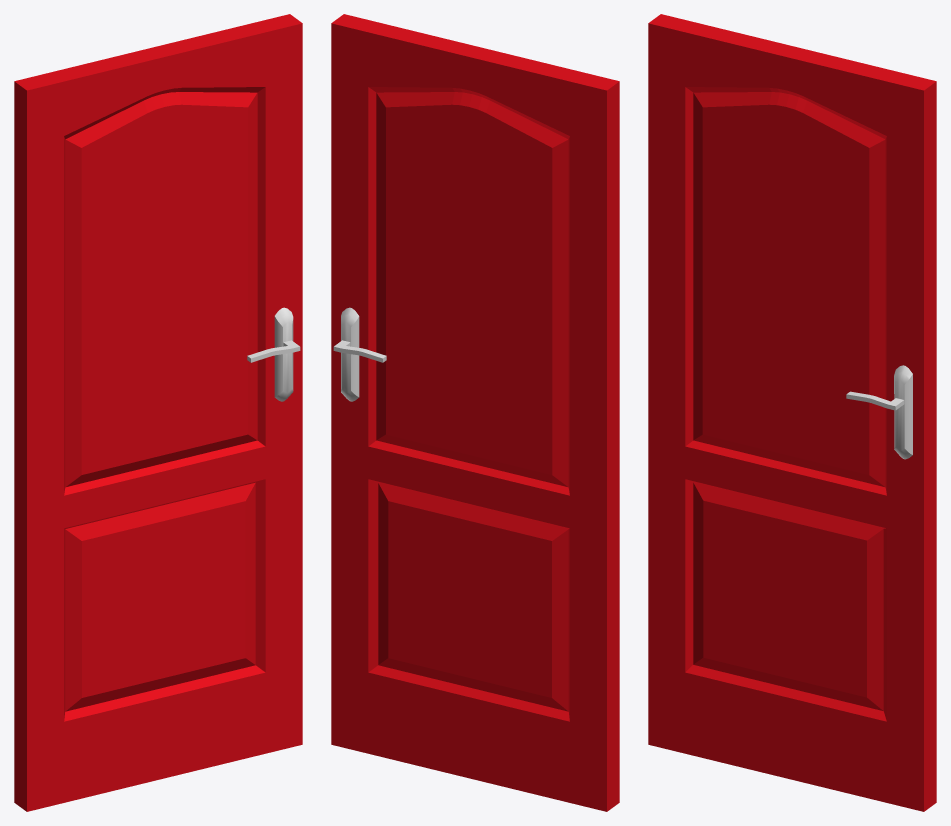
Rendered from drzwi.fbx.
The picture shows the model from 3 angles, left to right: view 1: azimuth 30°, elevation 25°; view 2: azimuth 150°, elevation 25°; view 3: azimuth 330°, elevation 25°; orthographic projection.
Visible parts, largest first — view 1: Cube, Cube.001; view 2: Cube, Cube.001; view 3: Cube, Cube.001.
Boxes of the visible parts, bbox=[...] form: Cube: bbox=[14, 14, 302, 811]; Cube.001: bbox=[274, 307, 293, 401]; Cube: bbox=[331, 14, 619, 811]; Cube.001: bbox=[341, 307, 359, 401]; Cube: bbox=[648, 14, 936, 811]; Cube.001: bbox=[894, 365, 912, 459].
Size of the model in its own units: 50 by 125 by 12.13.
